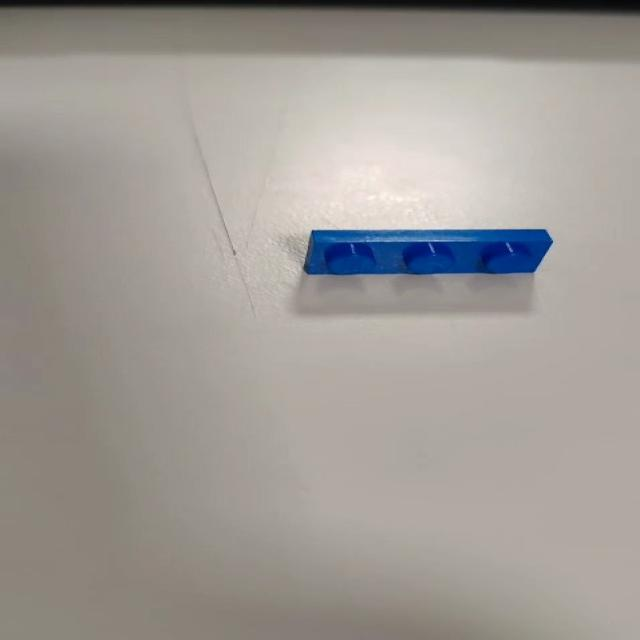C3x1x0: (301, 230, 553, 276)
